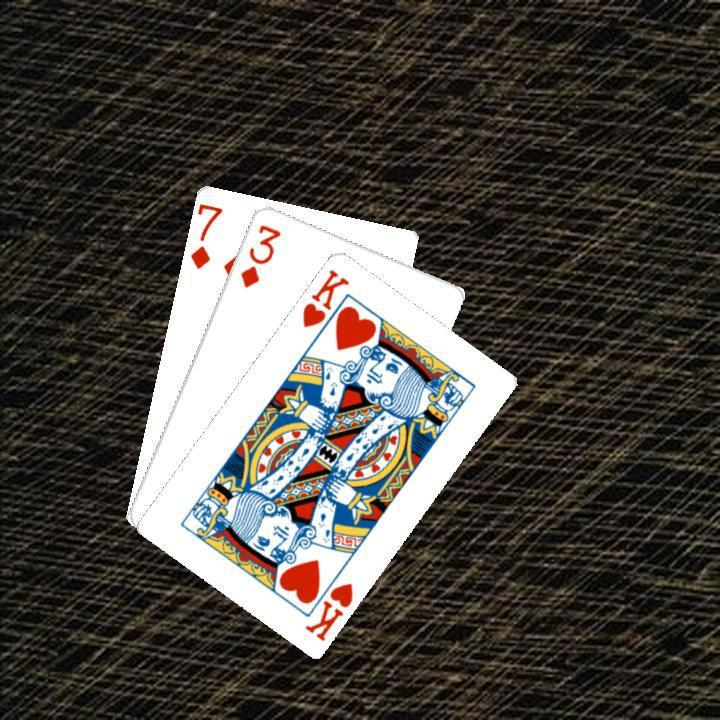3: (235, 219, 283, 290)
7: (186, 199, 225, 271)
K: (300, 577, 355, 642), (297, 264, 351, 330)
